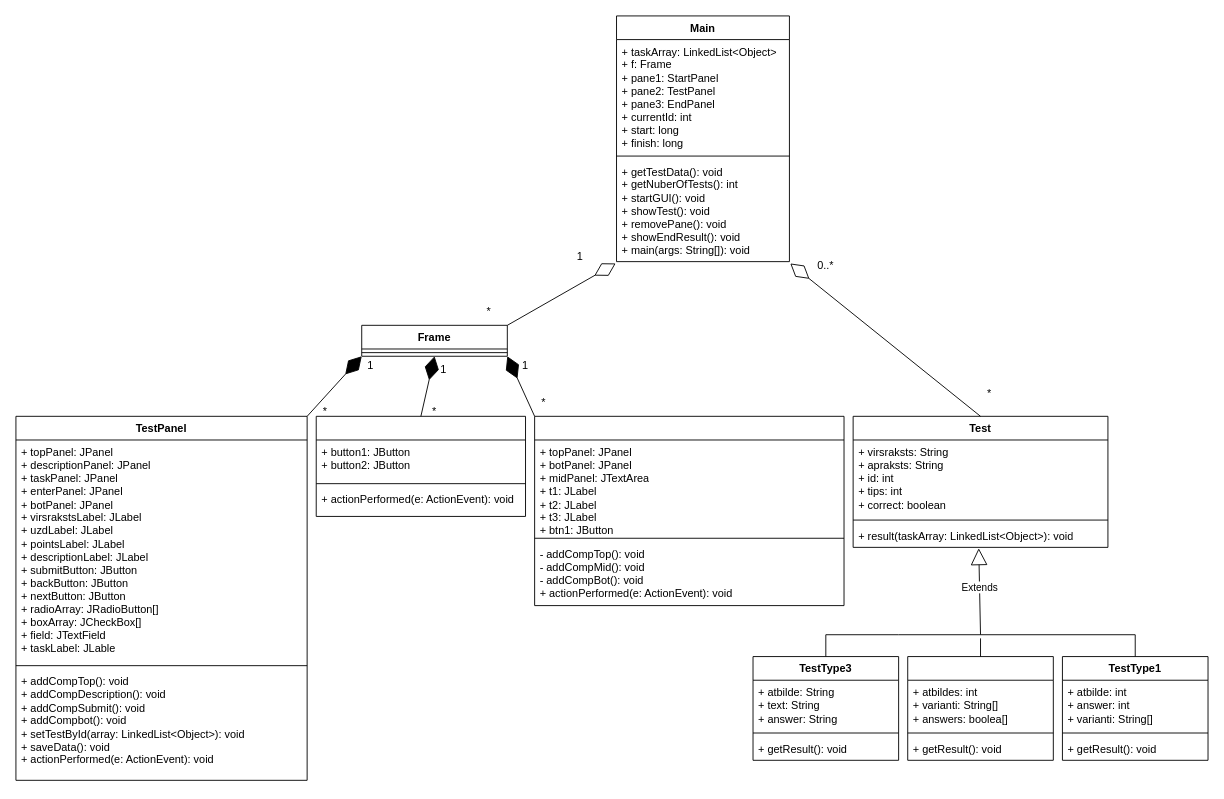
Image size: 1224x799. Some labels were removed from this diagram. Each missing label, with the box of its shape:
EndPanel: (534, 415, 844, 606)
StartPanel: (315, 415, 526, 516)
TestType2: (907, 656, 1053, 760)
